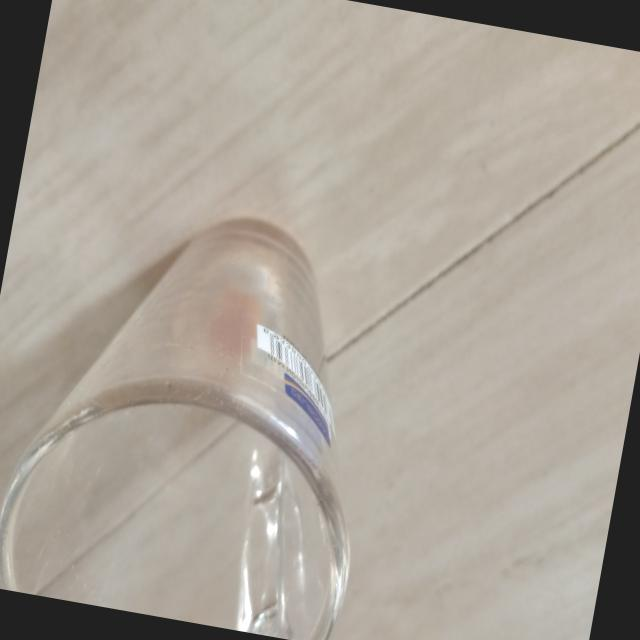glass-VX4N: (0, 182, 414, 640)
